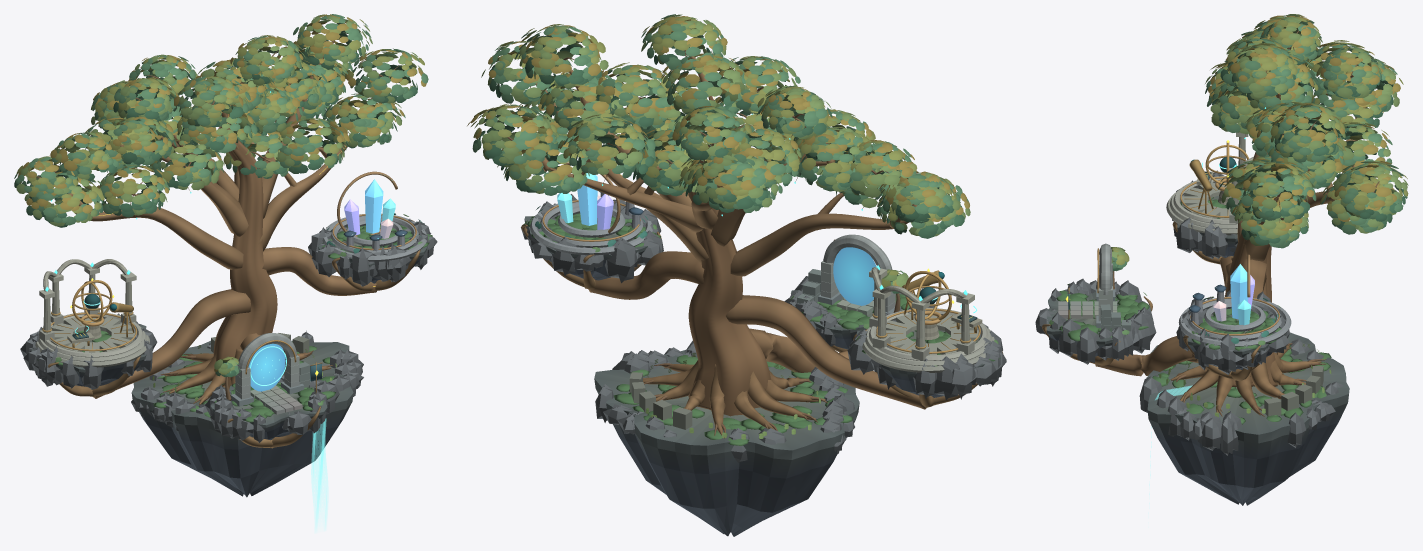
The model's file is yggdrasil-realms.glb.
The picture shows the model from 3 angles, left to right: view 1: azimuth 30°, elevation 25°; view 2: azimuth 150°, elevation 25°; view 3: azimuth 270°, elevation 25°; orthographic projection. The views are drawn at different scales.
Parts seen in each view (by area): view 1: Yggdrasil | oval clustered canopy, Islands | weathered strata, Yggdrasil | sculpted heartwood, Realms | carved stone, Realms | brass instruments, Islands | moss cushions, Sanctuary | faceted minerals, Cascade | falling veil, Threshold | distant light, Realms | enamel and folio; view 2: Yggdrasil | oval clustered canopy, Islands | weathered strata, Yggdrasil | sculpted heartwood, Realms | carved stone, Islands | moss cushions, Realms | brass instruments, Threshold | distant light, Sanctuary | faceted minerals; view 3: Yggdrasil | oval clustered canopy, Islands | weathered strata, Yggdrasil | sculpted heartwood, Realms | carved stone, Islands | moss cushions, Realms | brass instruments, Sanctuary | faceted minerals, Realms | enamel and folio.
Part boxes in pixels (bbox=[...]): Yggdrasil | oval clustered canopy: bbox=[14, 14, 428, 416]; Islands | weathered strata: bbox=[20, 218, 437, 497]; Yggdrasil | sculpted heartwood: bbox=[36, 31, 420, 448]; Realms | carved stone: bbox=[35, 213, 426, 414]; Realms | brass instruments: bbox=[42, 171, 416, 394]; Islands | moss cushions: bbox=[37, 224, 432, 422]; Sanctuary | faceted minerals: bbox=[344, 179, 395, 238]; Cascade | falling veil: bbox=[311, 418, 328, 530]; Threshold | distant light: bbox=[248, 343, 285, 391]; Realms | enamel and folio: bbox=[72, 230, 407, 381]; Yggdrasil | oval clustered canopy: bbox=[467, 14, 998, 439]; Islands | weathered strata: bbox=[521, 194, 1006, 536]; Yggdrasil | sculpted heartwood: bbox=[507, 41, 1003, 438]; Realms | carved stone: bbox=[530, 193, 994, 372]; Islands | moss cushions: bbox=[526, 213, 1000, 445]; Realms | brass instruments: bbox=[542, 162, 980, 353]; Threshold | distant light: bbox=[833, 247, 876, 305]; Sanctuary | faceted minerals: bbox=[557, 173, 613, 229]; Yggdrasil | oval clustered canopy: bbox=[1049, 14, 1408, 417]; Islands | weathered strata: bbox=[1035, 170, 1349, 505]; Yggdrasil | sculpted heartwood: bbox=[1042, 30, 1379, 416]; Realms | carved stone: bbox=[1058, 132, 1291, 346]; Islands | moss cushions: bbox=[1056, 197, 1331, 424]; Realms | brass instruments: bbox=[1068, 142, 1279, 335]; Sanctuary | faceted minerals: bbox=[1213, 264, 1254, 325]; Realms | enamel and folio: bbox=[1068, 157, 1236, 312].
Bounding box in the file's own units: 14.36 × 15.15 × 10.56.
